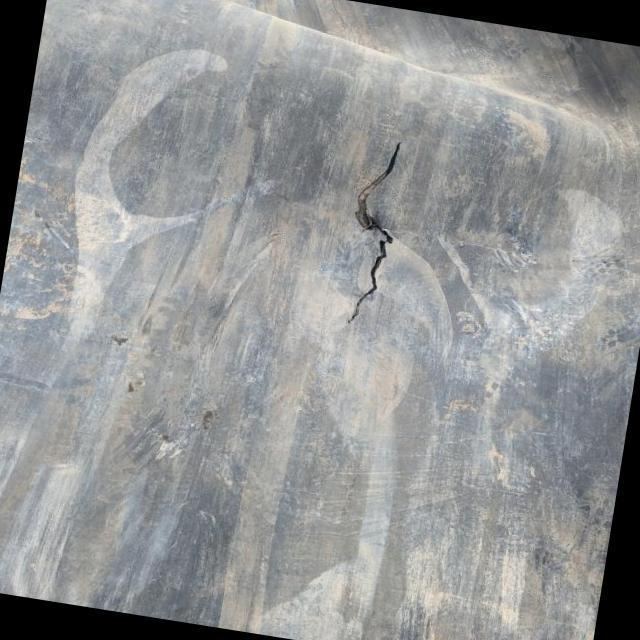Tear: (342, 137, 408, 329)
